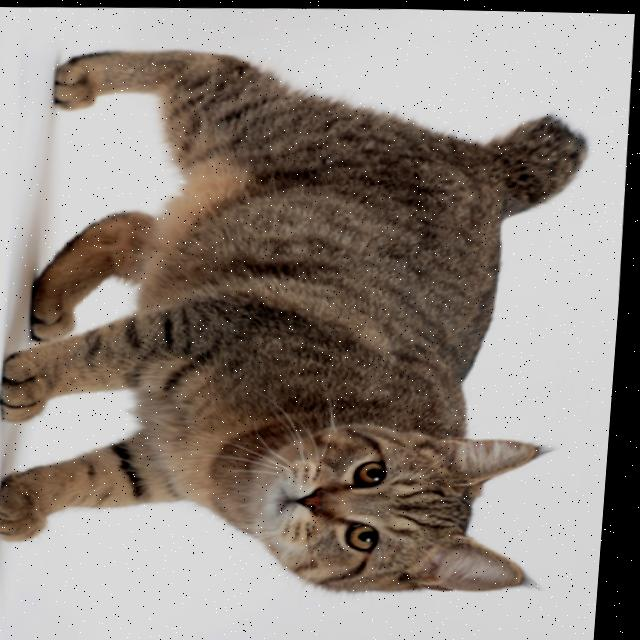American Bobtail: (0, 31, 615, 605)
